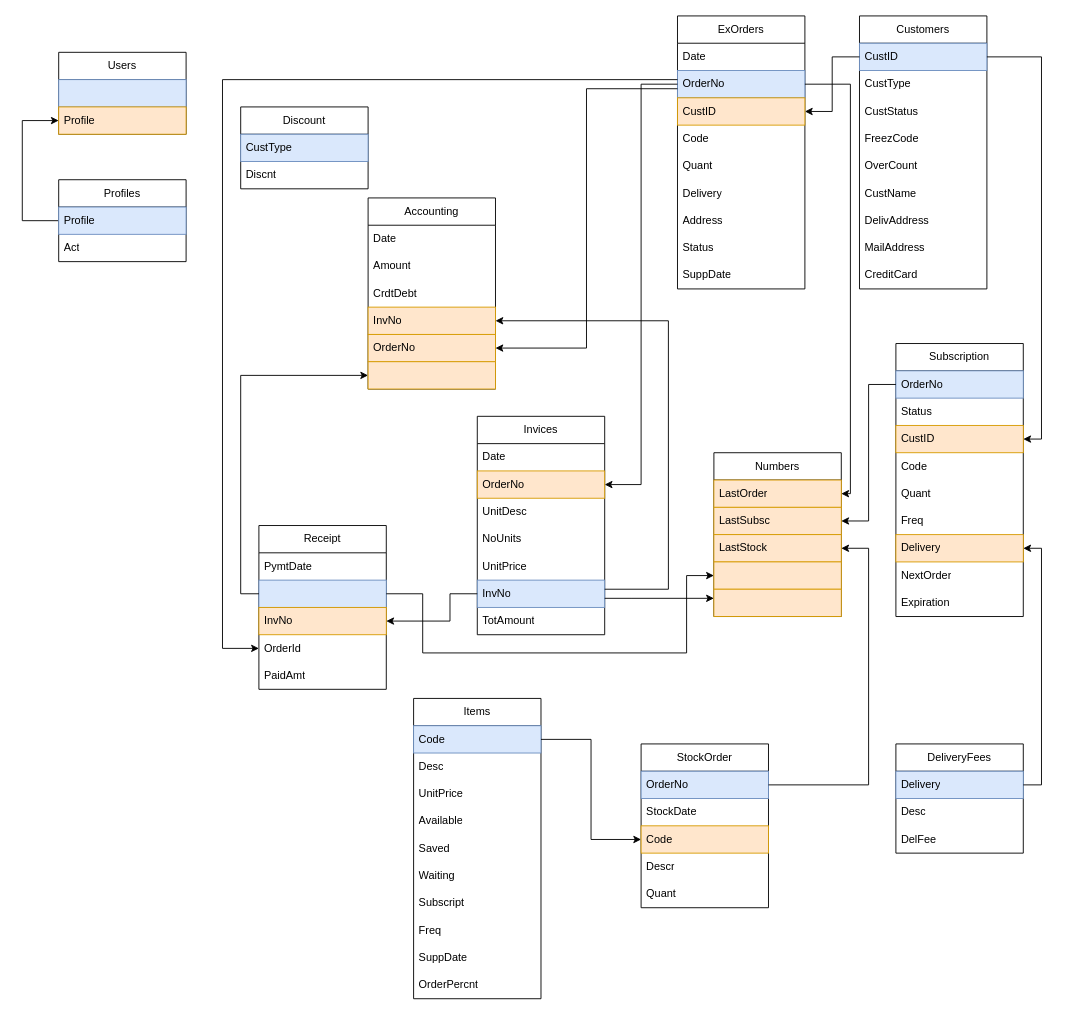
The diagram is 1065 pixels wide and 1015 high, and some of its shapes have lost their labels. Each missing label, with the centre of its shape:
LastInvoice: point 777,602
LastRecipt: point 777,575
ReceptNo: point 431,375
RecNo: point 322,593
UserName: point 122,93
